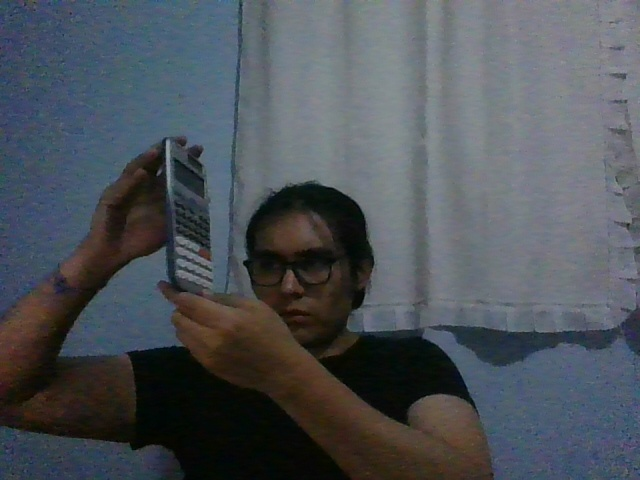calculadora: (162, 137, 214, 294)
